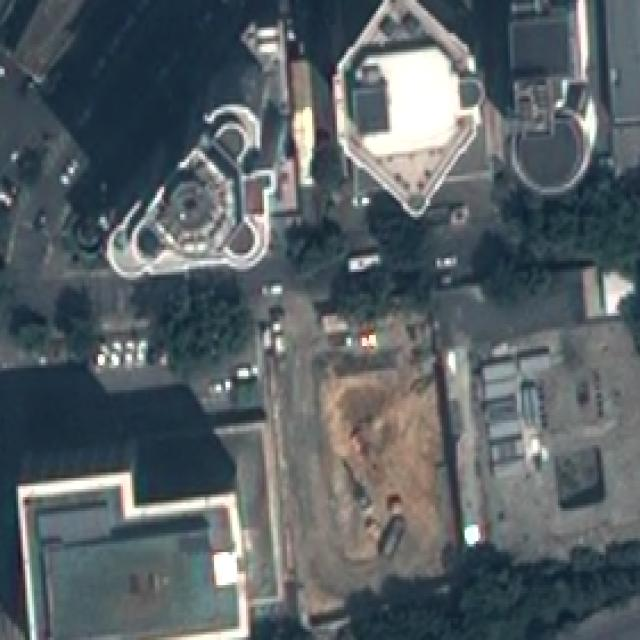Batiment: (22, 472, 248, 640), (338, 0, 484, 218), (110, 109, 275, 278), (511, 0, 596, 195), (556, 446, 604, 507), (274, 158, 296, 212), (521, 380, 540, 426), (519, 351, 550, 378), (482, 363, 515, 381), (485, 381, 516, 399), (492, 460, 522, 477), (491, 423, 520, 439)
